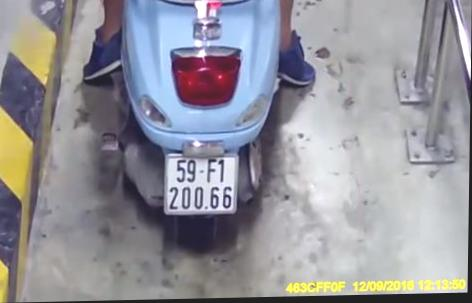License_Plate: (157, 149, 249, 221)
